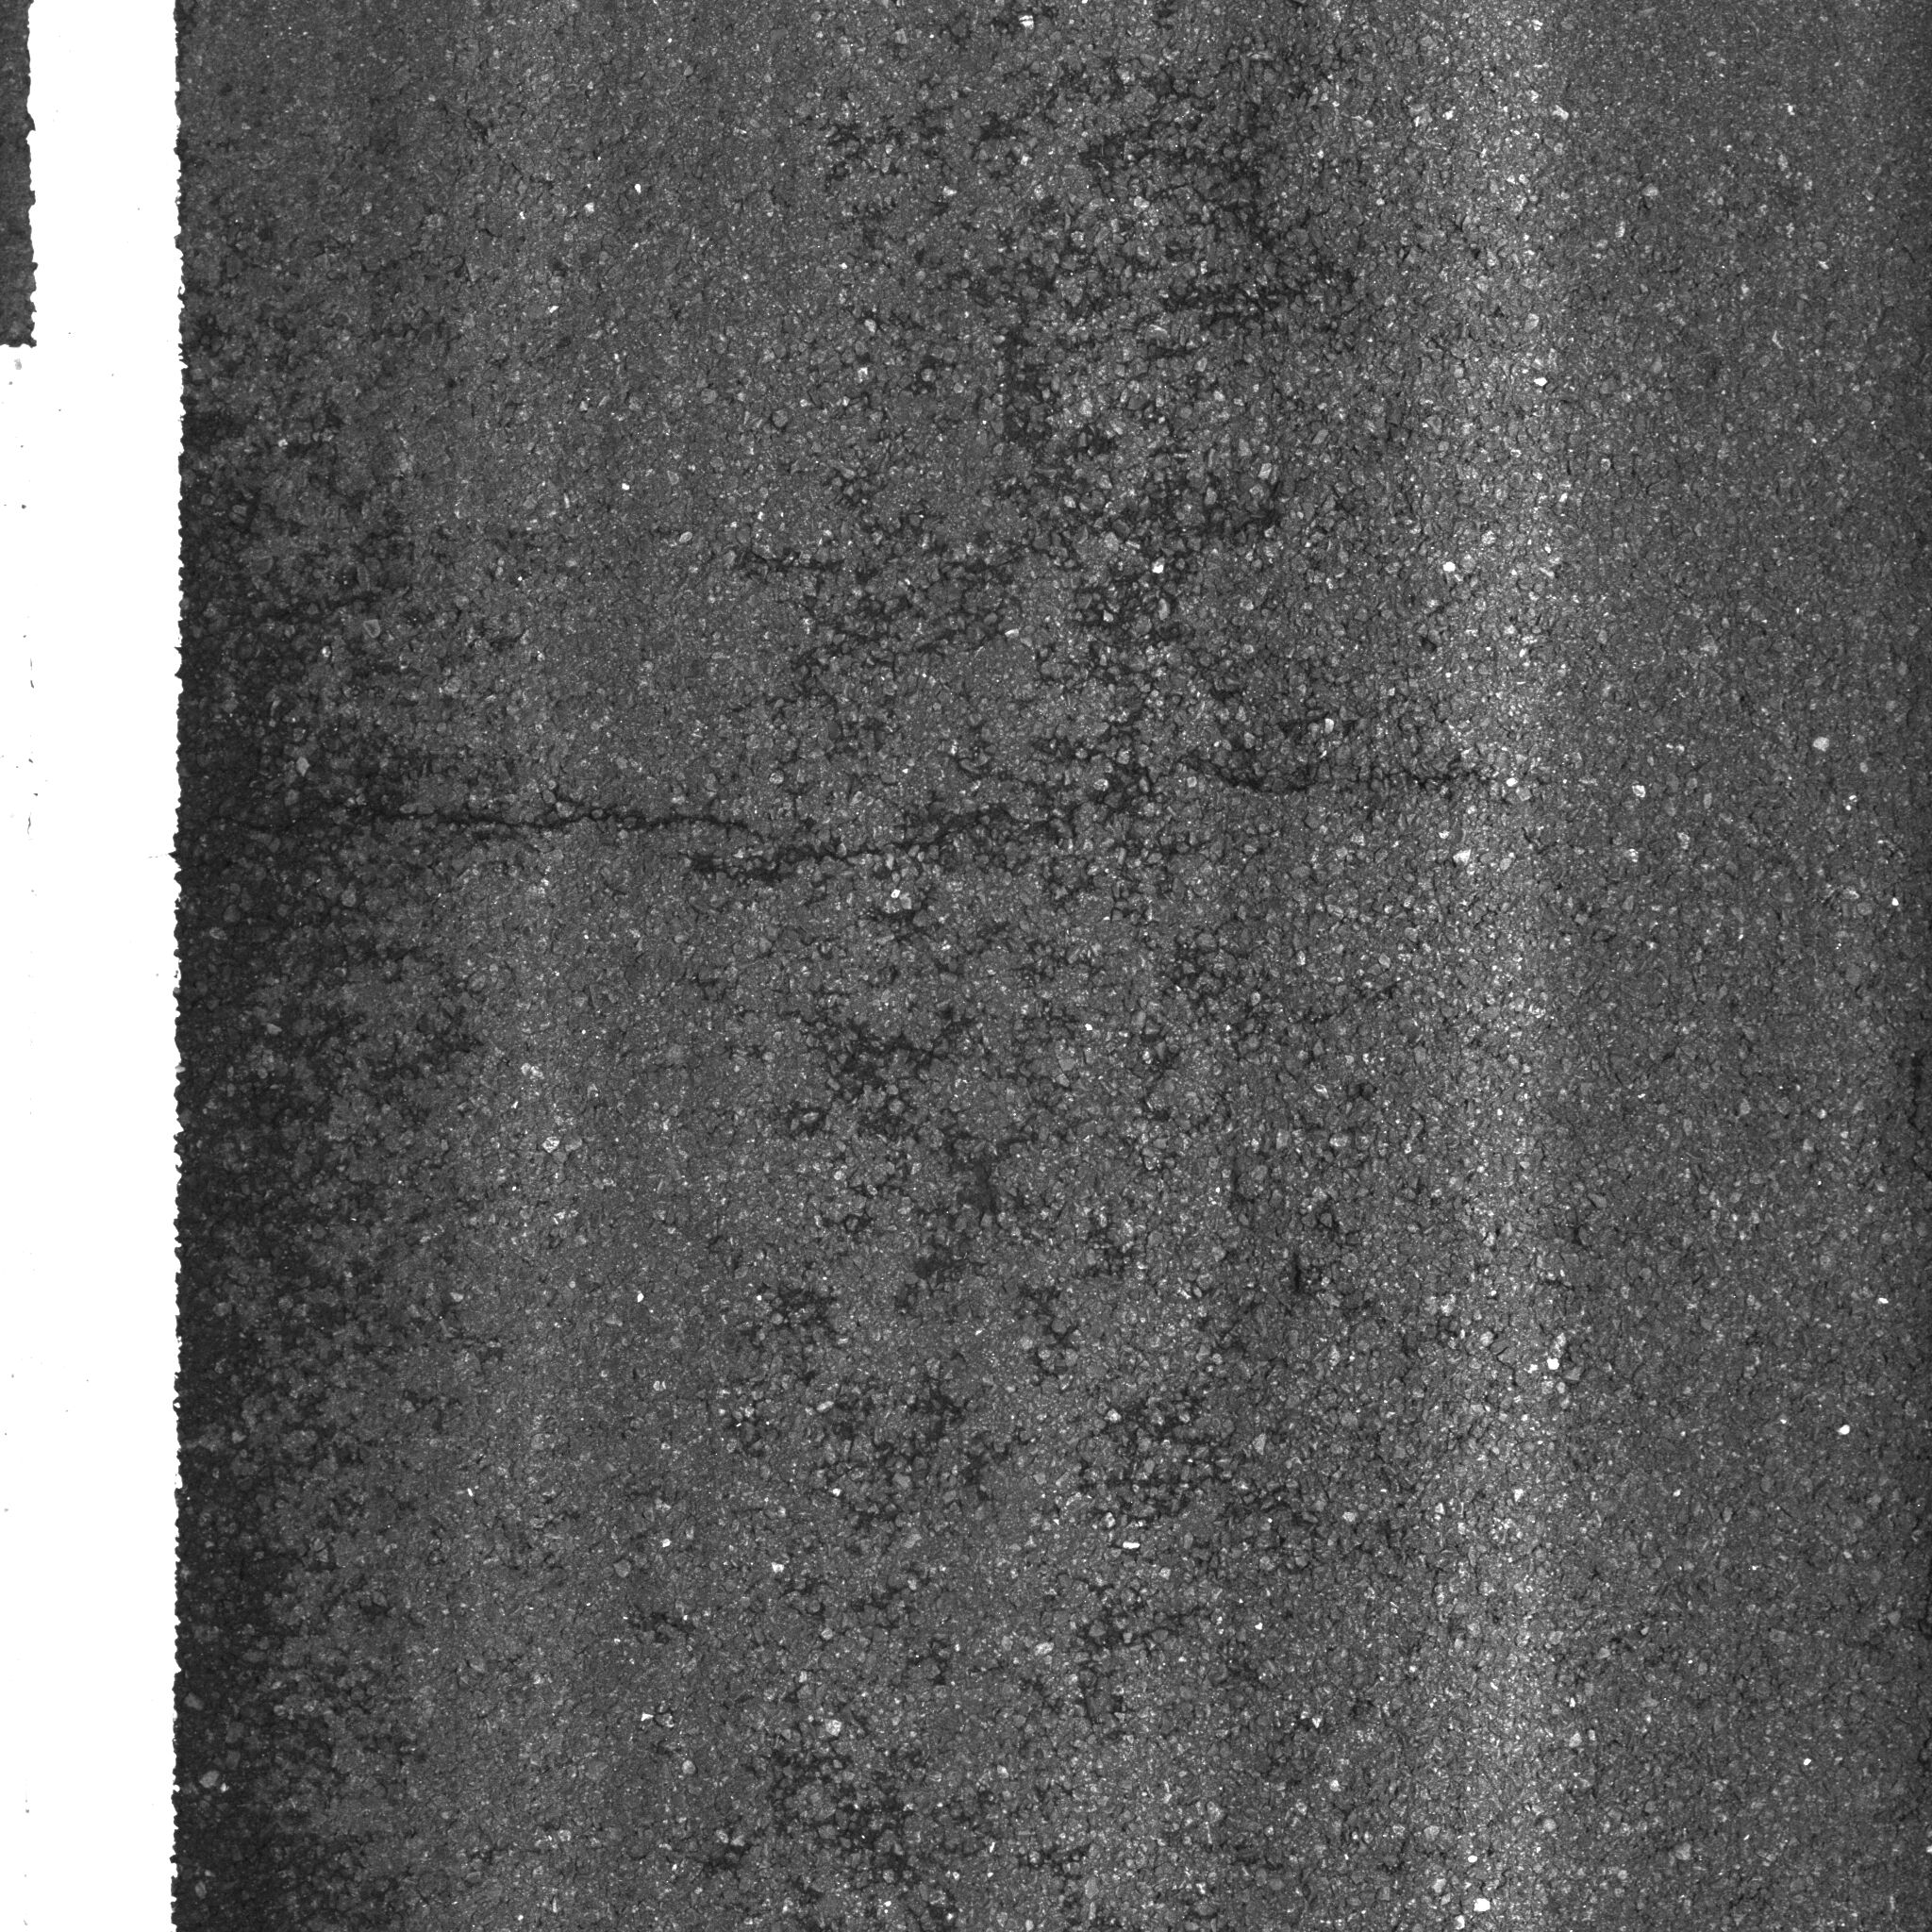transeverse: (168, 743, 1507, 879)
